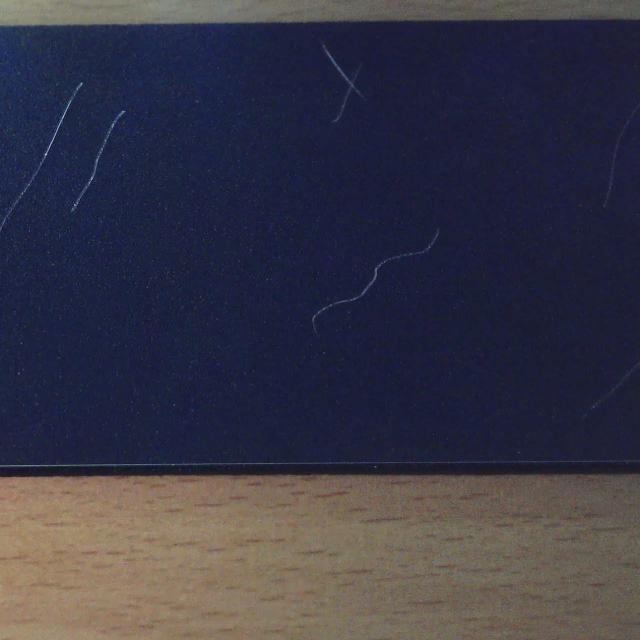defect: (312, 230, 440, 336), (0, 82, 83, 235), (74, 108, 126, 212), (602, 100, 640, 218), (319, 40, 365, 124), (578, 362, 640, 419)
